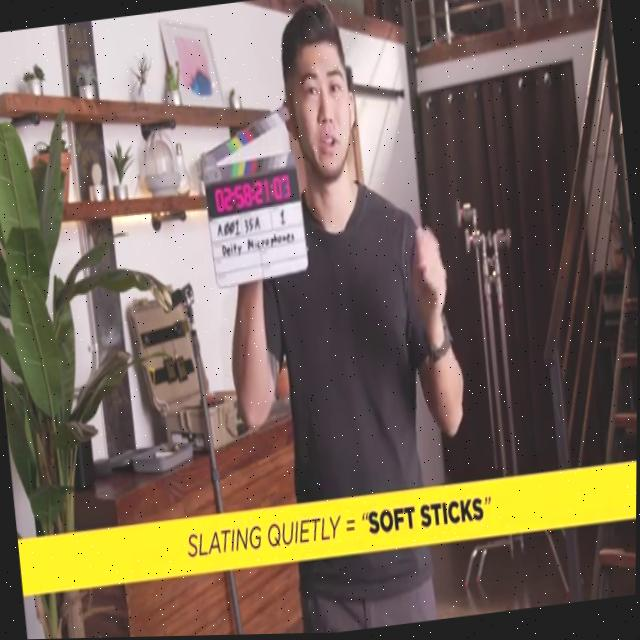Clapperboard: (192, 98, 315, 289)
